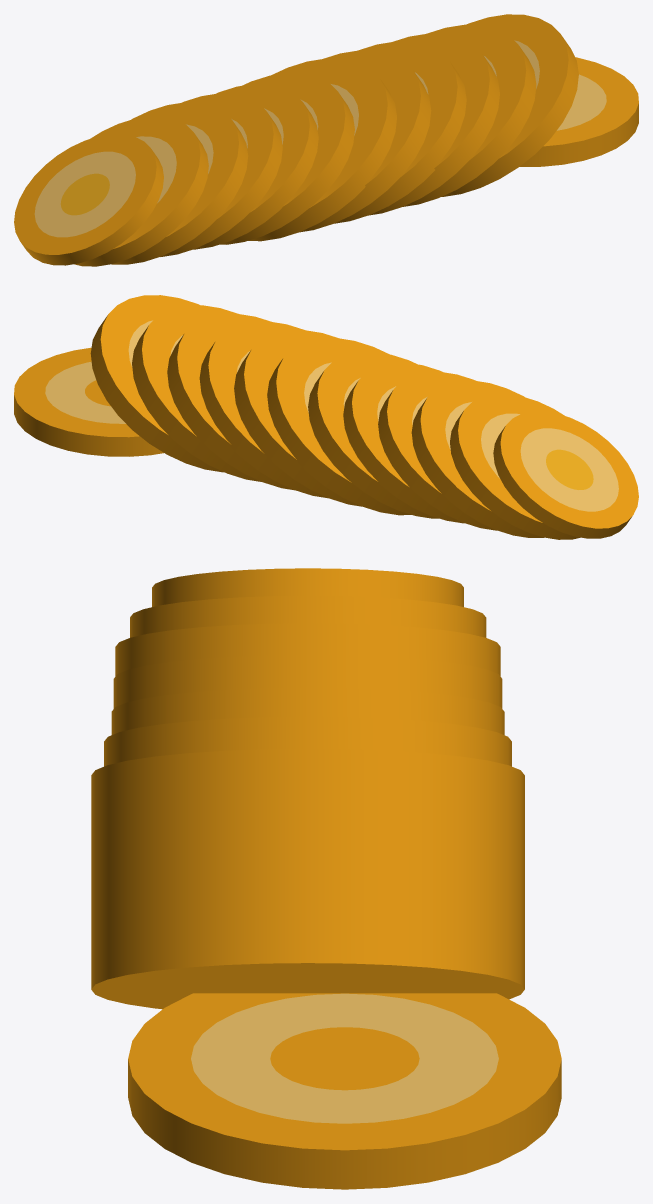
File: wortelgesneden.fbx
3 views of the same model, one above another, from view 1: azimuth 30°, elevation 25°; view 2: azimuth 150°, elevation 25°; view 3: azimuth 270°, elevation 25° (orthographic). The views are drawn at different scales.
Visible parts, largest first — view 1: Cylinder.037, Cylinder.019, Cylinder.004, Cylinder.007, Cylinder.031, Cylinder.013, Cylinder.034, Cylinder.022, Cylinder.016, Cylinder.010, Cylinder.025, Cylinder.028 (+7 smaller); view 2: Cylinder.037, Cylinder.019, Cylinder.004, Cylinder.001, Cylinder.007, Cylinder.031, Cylinder.013, Cylinder.034, Cylinder.022, Cylinder.016, Cylinder.010, Cylinder.025 (+7 smaller); view 3: Cylinder.001, Cylinder.004, Cylinder, Cylinder.007, Cylinder.016, Cylinder.010, Cylinder.019, Cylinder.013, Cylinder.022, Cylinder.028, Cylinder.031, Cylinder.025 (+3 smaller).
Part boxes in pixels (bbox=[...]): Cylinder.037: bbox=[14, 134, 163, 265]; Cylinder.019: bbox=[248, 58, 396, 241]; Cylinder.004: bbox=[442, 14, 578, 196]; Cylinder.007: bbox=[403, 24, 536, 206]; Cylinder.031: bbox=[112, 102, 248, 264]; Cylinder.013: bbox=[334, 41, 466, 223]; Cylinder.034: bbox=[74, 116, 208, 266]; Cylinder.022: bbox=[220, 73, 354, 244]; Cylinder.016: bbox=[300, 50, 431, 232]; Cylinder.010: bbox=[368, 33, 499, 215]; Cylinder.025: bbox=[193, 84, 318, 249]; Cylinder.028: bbox=[160, 93, 282, 256]; Cylinder.037: bbox=[493, 411, 638, 538]; Cylinder.019: bbox=[267, 338, 411, 515]; Cylinder.004: bbox=[90, 295, 223, 472]; Cylinder.001: bbox=[14, 347, 163, 456]; Cylinder.007: bbox=[132, 305, 261, 481]; Cylinder.031: bbox=[411, 380, 543, 537]; Cylinder.013: bbox=[199, 321, 328, 498]; Cylinder.034: bbox=[450, 394, 580, 539]; Cylinder.022: bbox=[308, 352, 438, 518]; Cylinder.016: bbox=[234, 330, 361, 506]; Cylinder.010: bbox=[167, 313, 294, 490]; Cylinder.025: bbox=[343, 362, 464, 523]; Cylinder.001: bbox=[128, 993, 561, 1189]; Cylinder.004: bbox=[91, 920, 524, 1009]; Cylinder: bbox=[191, 993, 498, 1123]; Cylinder.007: bbox=[91, 879, 524, 946]; Cylinder.016: bbox=[91, 780, 524, 840]; Cylinder.010: bbox=[91, 845, 524, 905]; Cylinder.019: bbox=[91, 748, 524, 806]; Cylinder.013: bbox=[91, 815, 524, 871]; Cylinder.022: bbox=[104, 716, 511, 766]; Cylinder.028: bbox=[113, 655, 502, 708]; Cylinder.031: bbox=[115, 623, 500, 676]; Cylinder.025: bbox=[111, 687, 504, 734].
Bounding box in the file's own units: 628 × 123 × 217.
